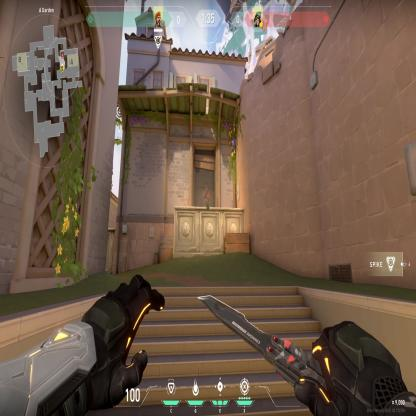enemy: (203, 185, 210, 208)
